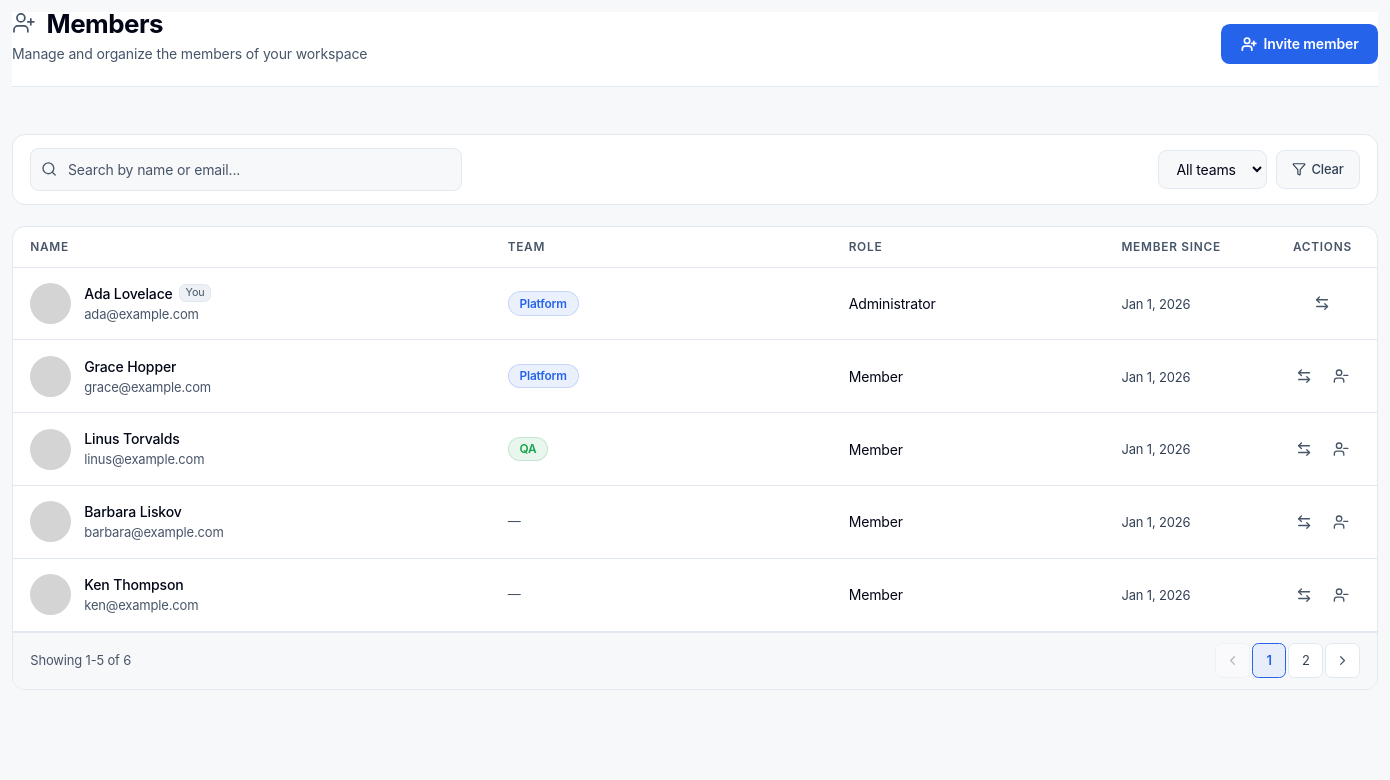
Test: WorkspaceMembersPage › renders members, filters by search and team, and paginates results
This screenshot has width=1390, height=780.
Expected: the text "Ada Lovelace" is shown, [84,283,173,304]
Expected: the text "Grace Hopper" is shown, [84,356,176,377]
Click the button "2": click(1306, 661) [1288,643,1323,678]
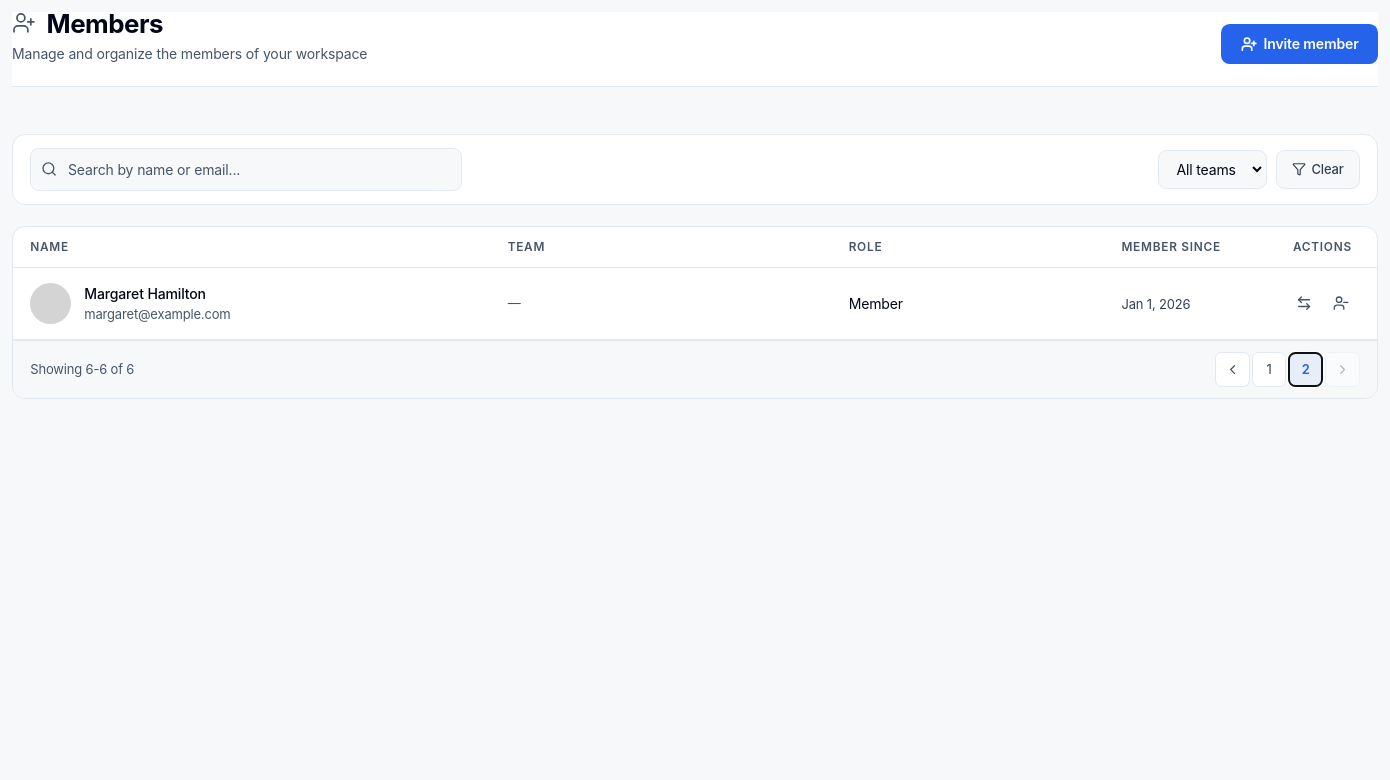
Now the text "Margaret Hamilton" is shown, box [84,283,206,304]
In the field with placeholder "Search by name or email...": (246, 169) [30,148,462,191], type "grace"
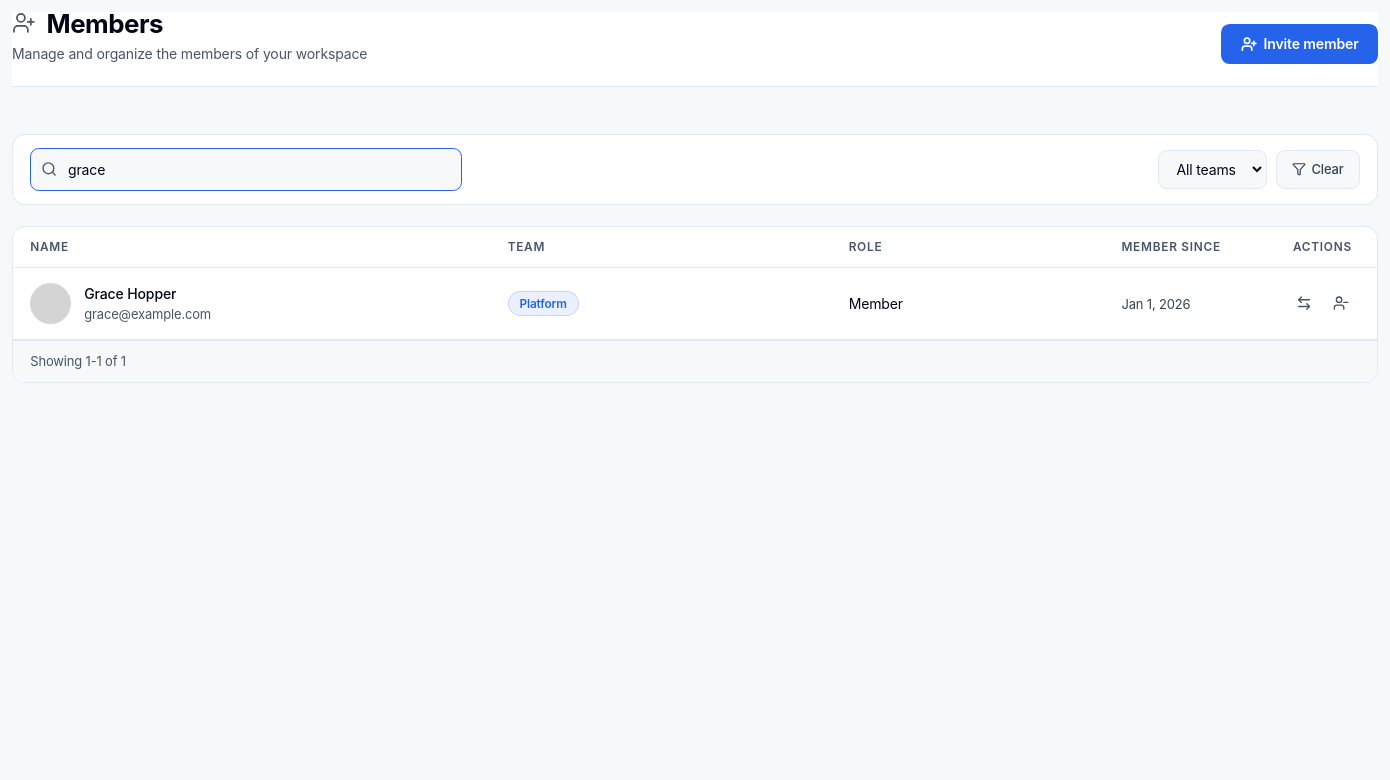
Expected: the text "Ada Lovelace" is not shown
Now the text "Grace Hopper" is shown, box [84,283,176,304]
Clear the field with placeholder "Search by name or email...": (246, 169) [30,148,462,191]
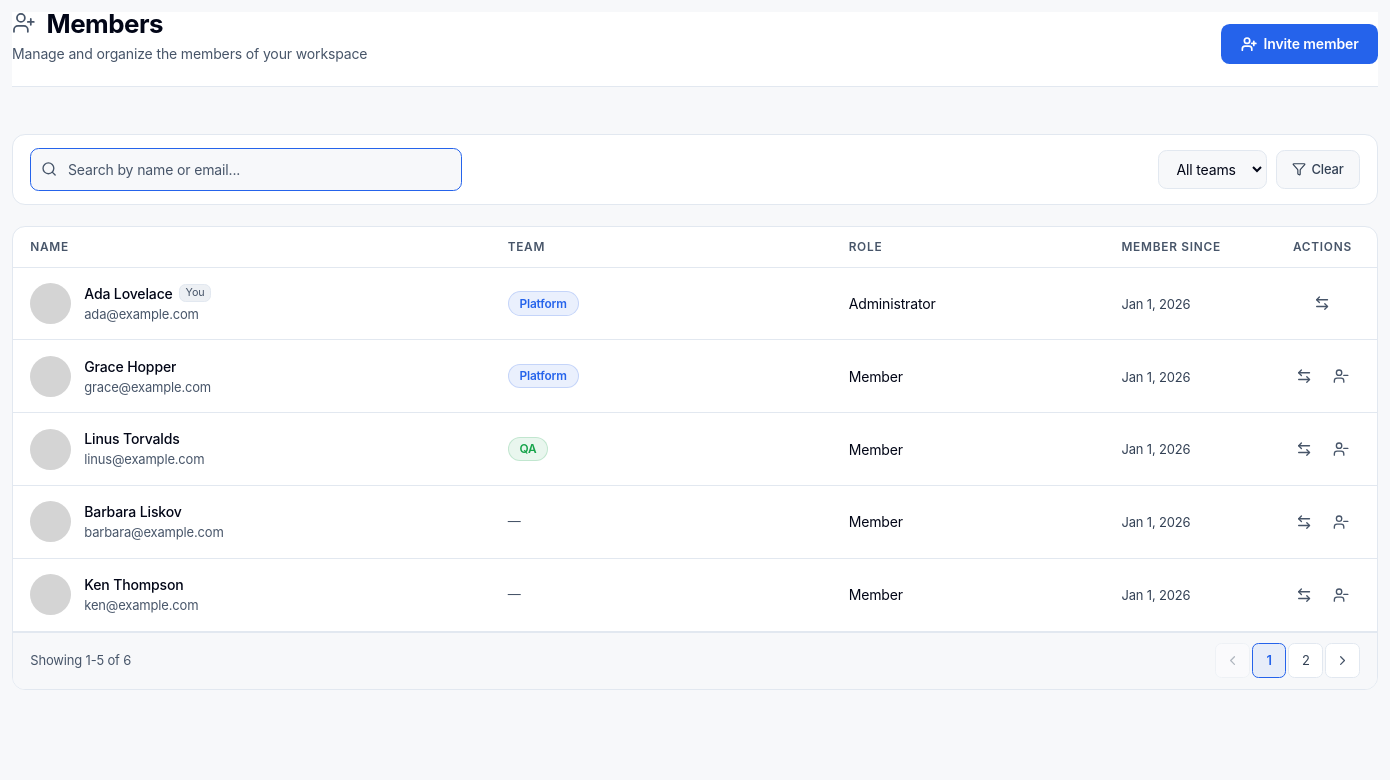
Select "QA" in the dropdown: (1213, 169) [1158,150,1267,189]
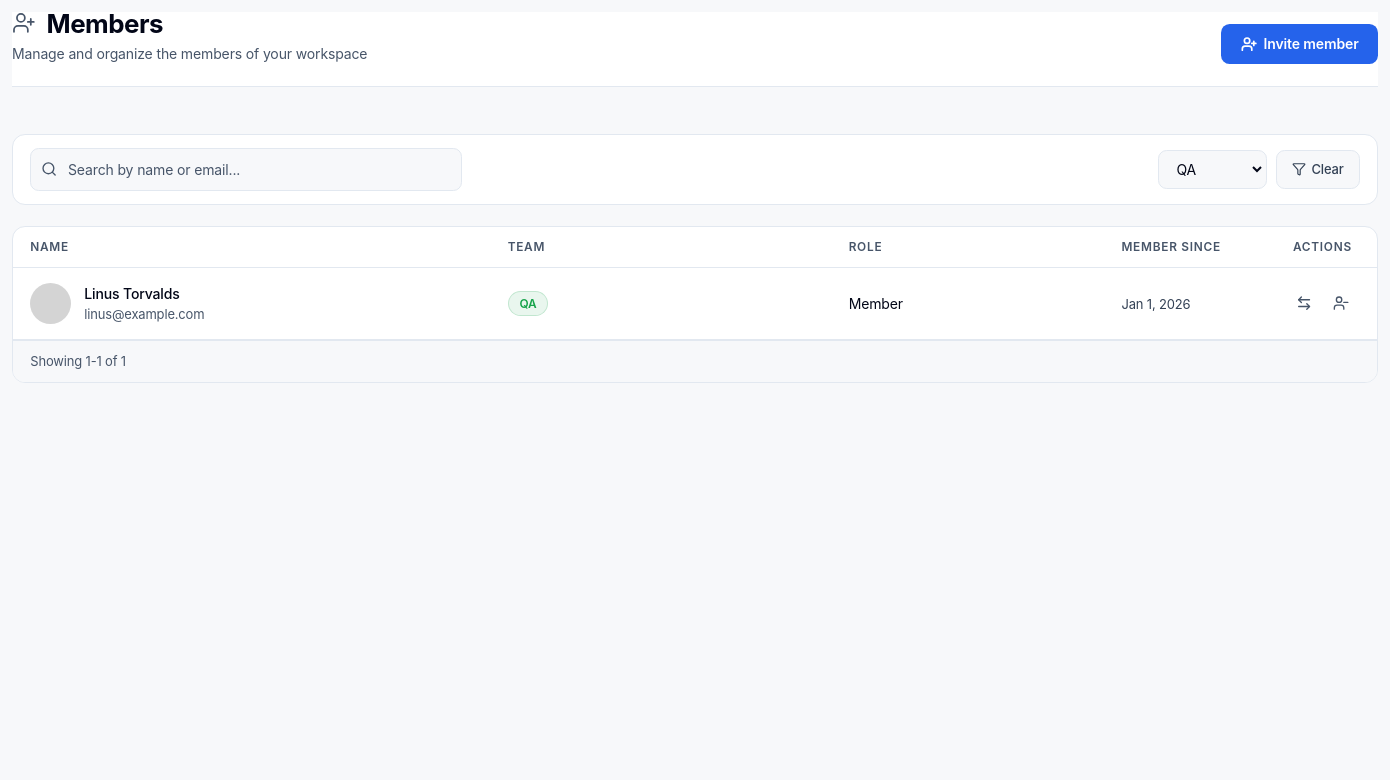
Now the text "Linus Torvalds" is shown, box [84,283,180,304]
Now the text "Grace Hopper" is gone
Click the button "Clear": click(1318, 169) [1276,150,1360,189]
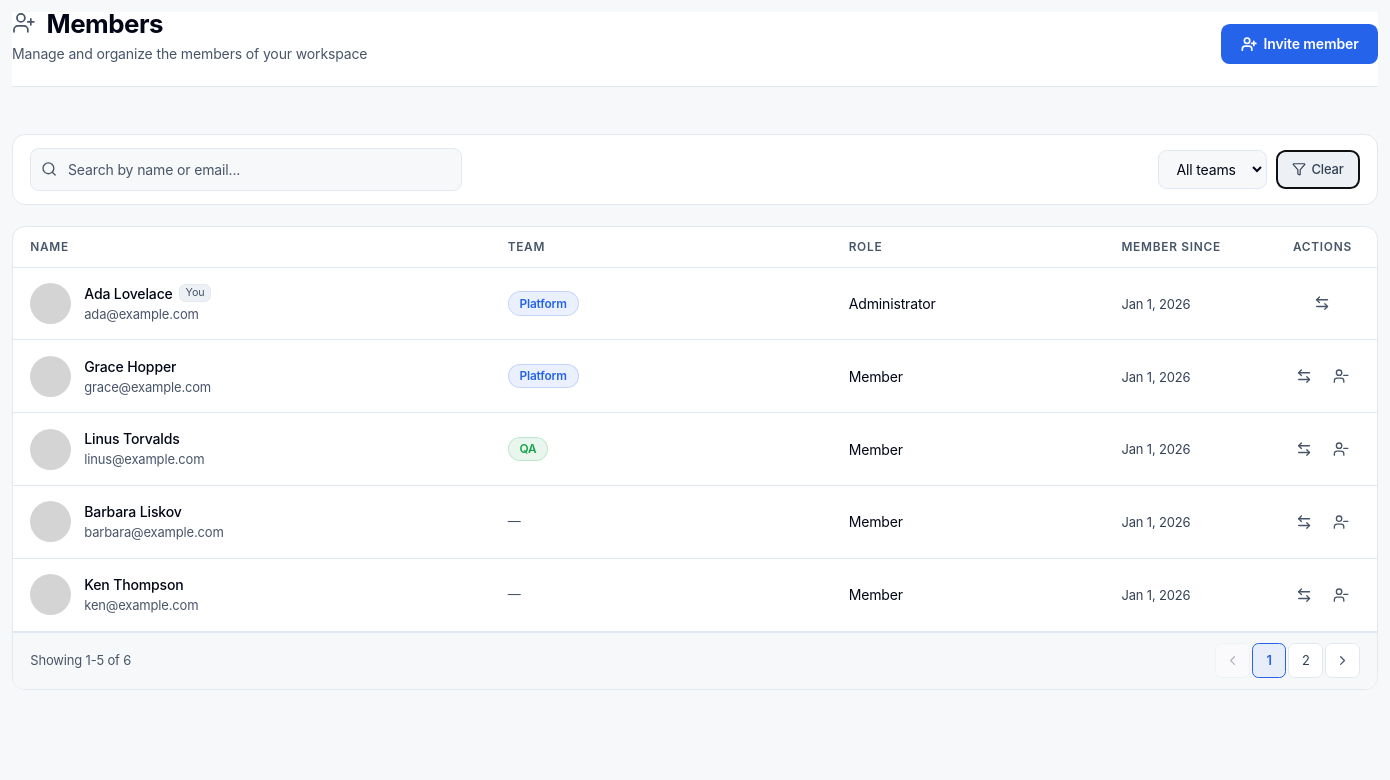
Now the text "Grace Hopper" is shown, box [84,356,176,377]
